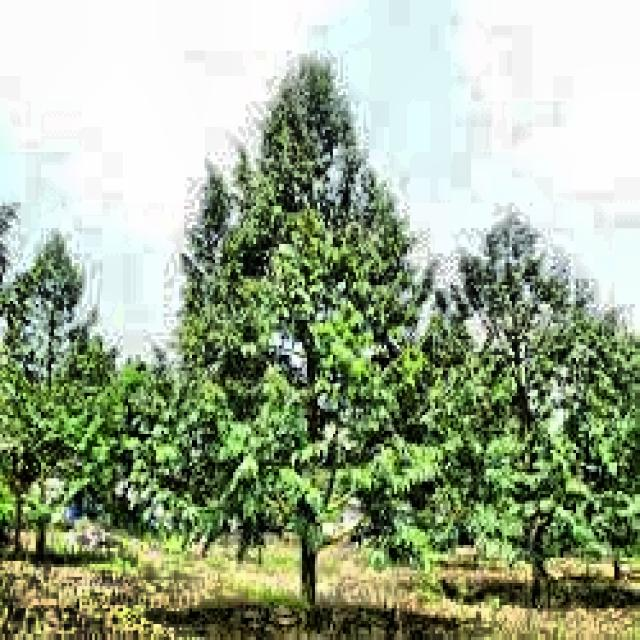arvore: (290, 293, 332, 626)
